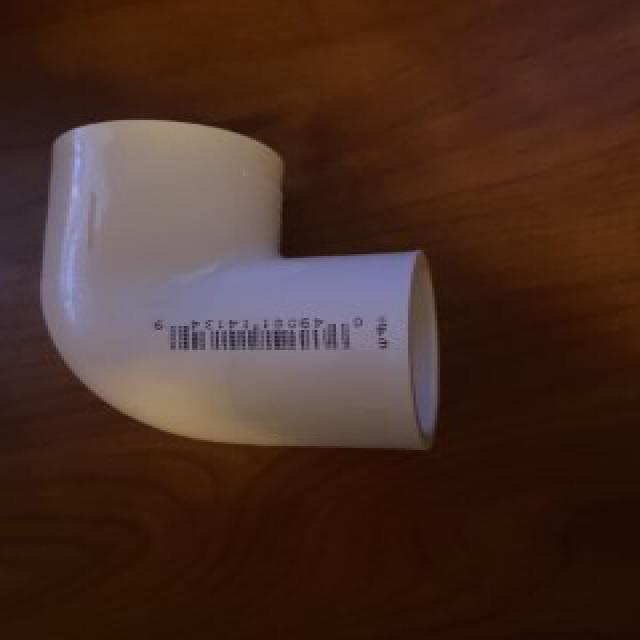L Joint: (38, 119, 442, 453)
